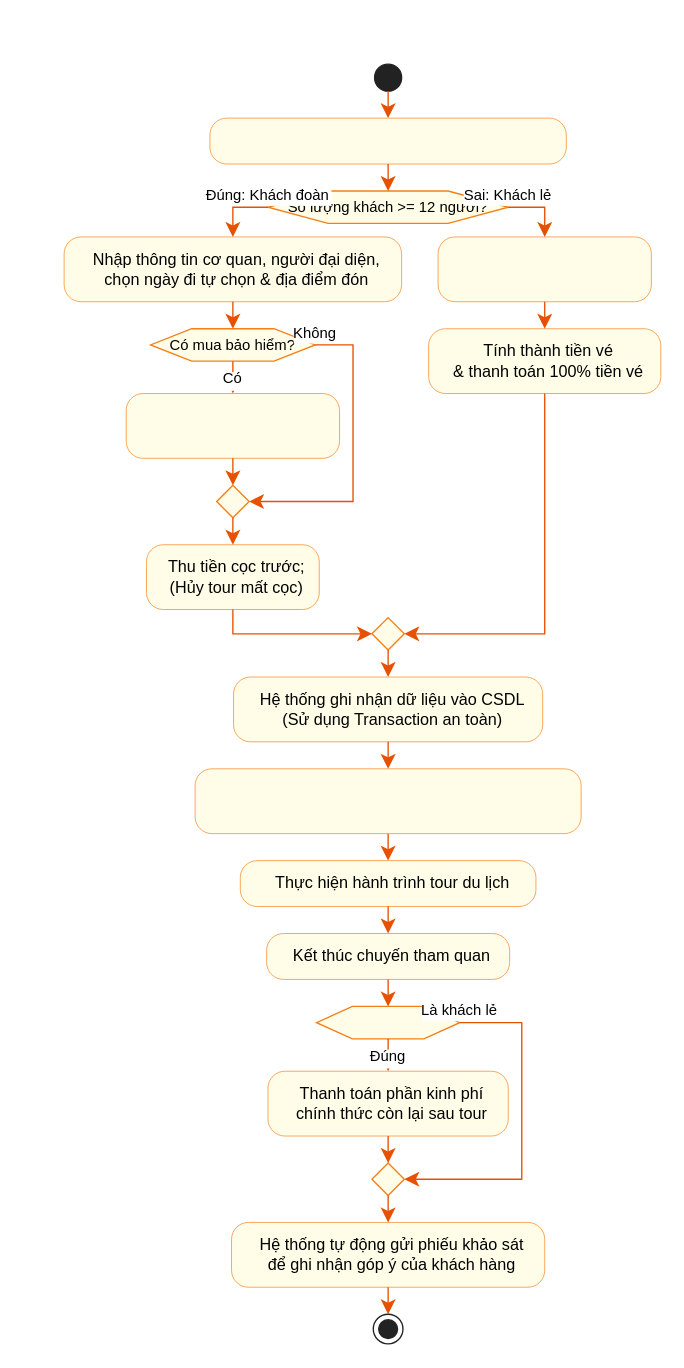
Some shapes in this 684 by 1368 pixel diagram are drawn without their labels. Here are the shapes that lost their labels. From the top down, the centre of each, then its label:
[387,140]: Nhân viên tiếp nhận yêu cầu đăng ký tour
[544,268]: Chọn chuyến đi có sẵn ngày đi / về của công ty
[232,425]: Nhập danh sách chi tiết những người đi kèm
[387,800]: Nhân viên điều hành tiến hành phân công Hướng dẫn viên (không trùng lịch)
[387,1022]: Là khách đoàn?
